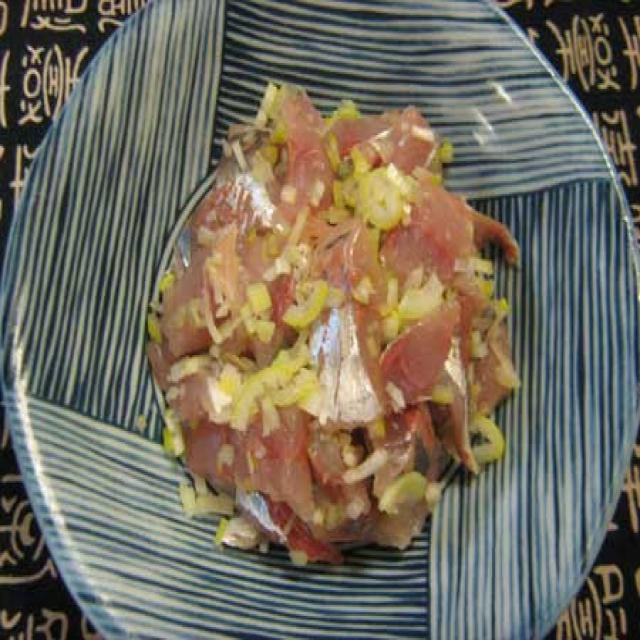熟制海鲜: (140, 90, 538, 548)
